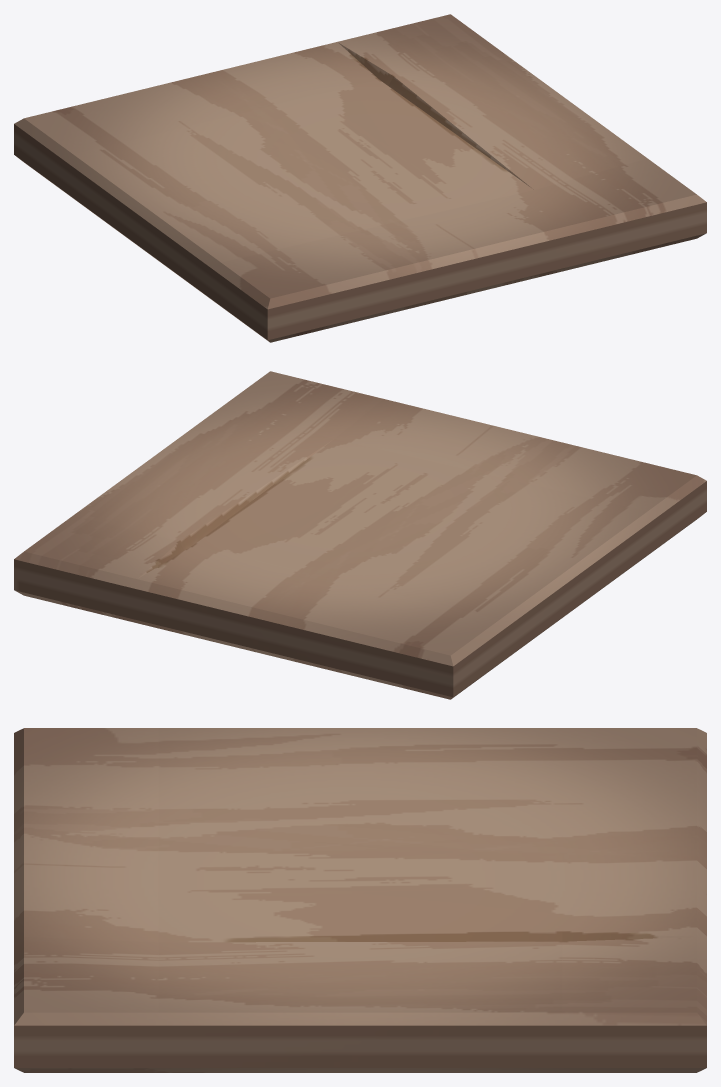
The model's file is brige_obj.fbx.
3 views of the same model, one above another, from view 1: azimuth 30°, elevation 25°; view 2: azimuth 150°, elevation 25°; view 3: azimuth 270°, elevation 25° (orthographic). The views are drawn at different scales.
Parts seen in each view (by area): view 1: brige_mdl; view 2: brige_mdl; view 3: brige_mdl.
Part boxes in pixels (x1,y1,x2,y2): brige_mdl: [14, 14, 706, 342]; brige_mdl: [14, 371, 706, 699]; brige_mdl: [14, 728, 706, 1072].
Bounding box in the file's own units: 10 × 0.96 × 10.
1 material, 1 textured.
